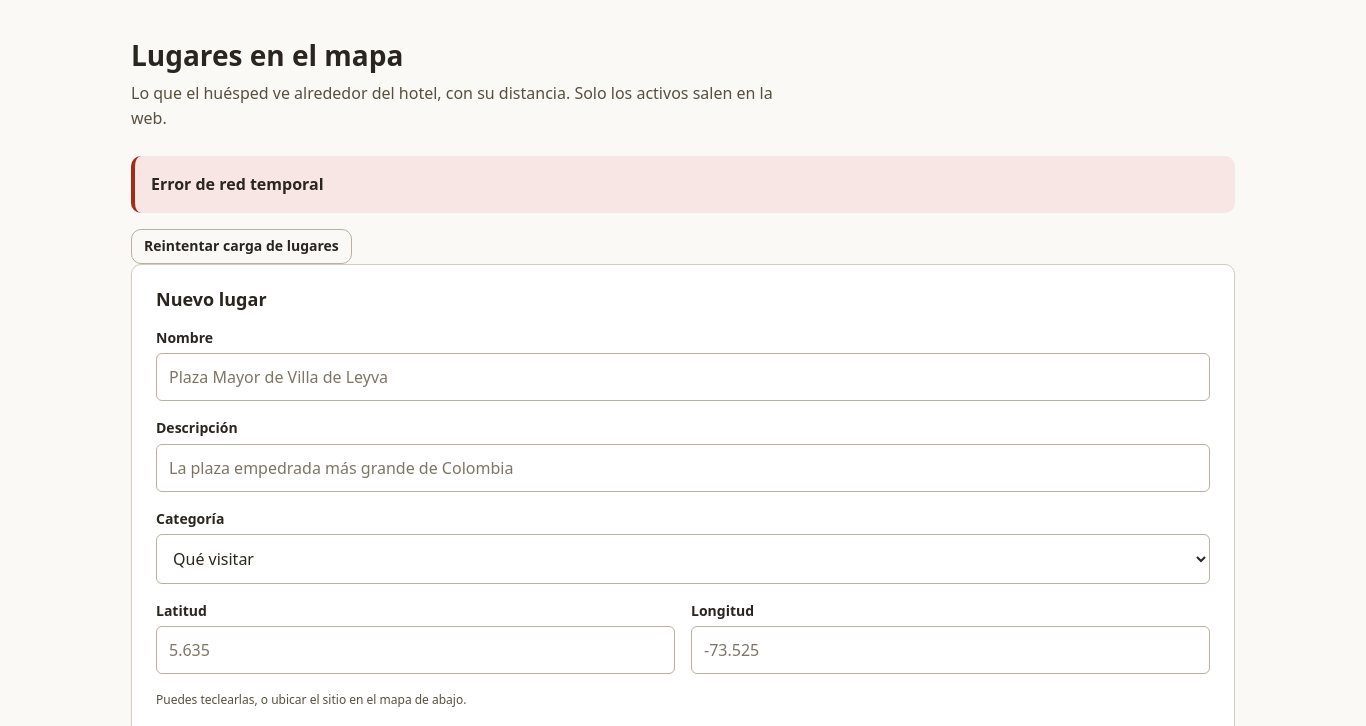
Scenario: edición de lugares del mapa › permite reintentar la carga de lugares después de un error temporal
Expected: the text "Error de red temporal" is shown, [151,173,324,195]
Click the button "Reintentar carga de lugares" at (241, 247), box [131,229,352,264]
(page scrolled)
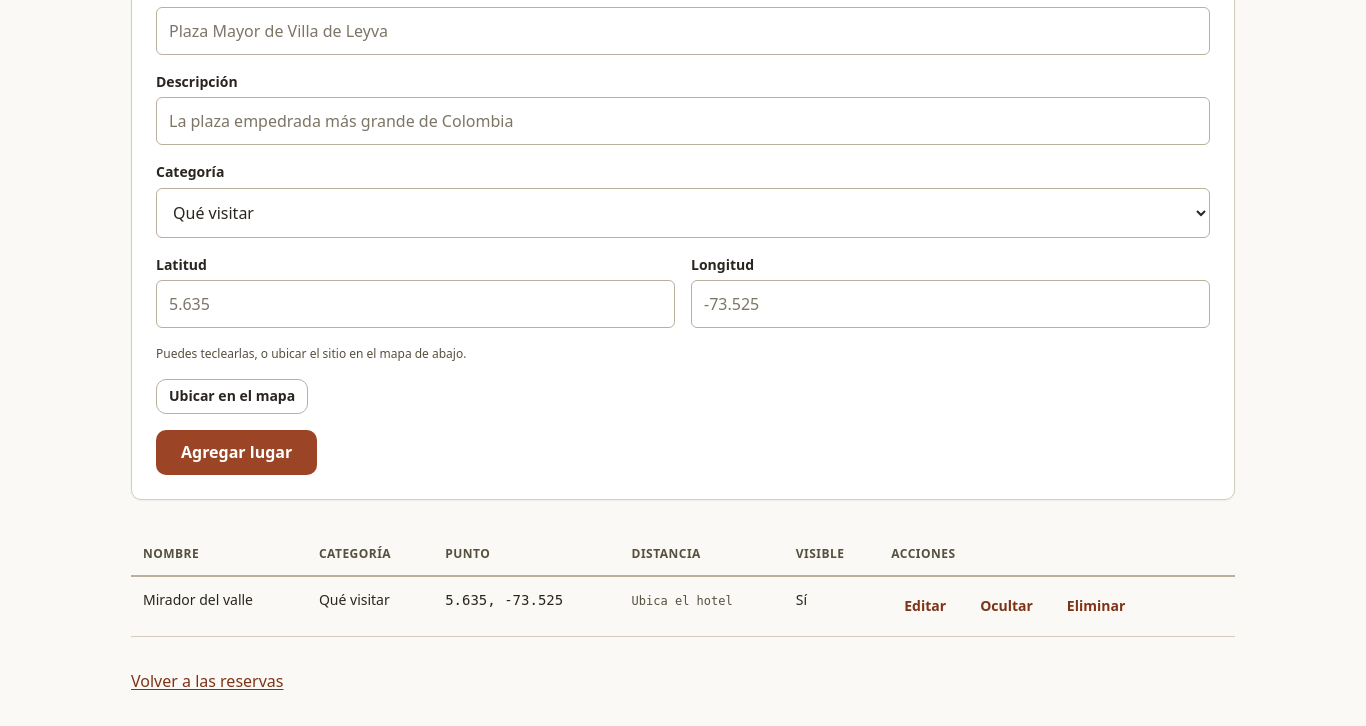
Now the row "Mirador del valle" is shown, box [131,577,1235,637]
Now the button "Reintentar carga de lugares" is gone
